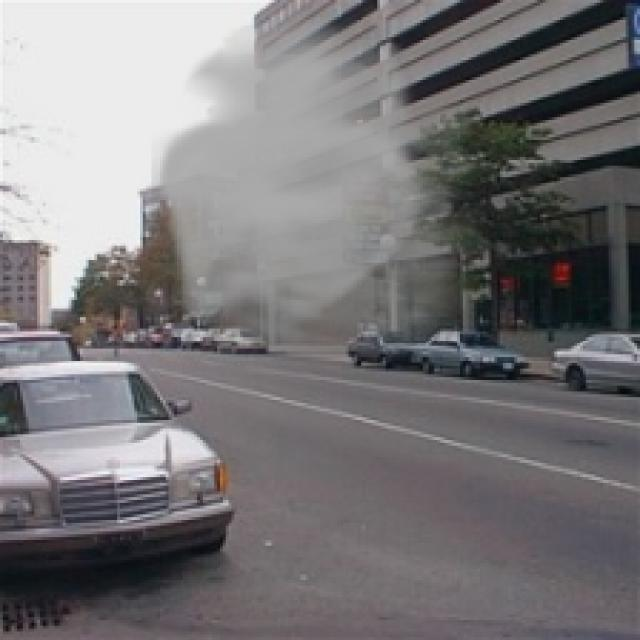smoke: (151, 17, 520, 372)
